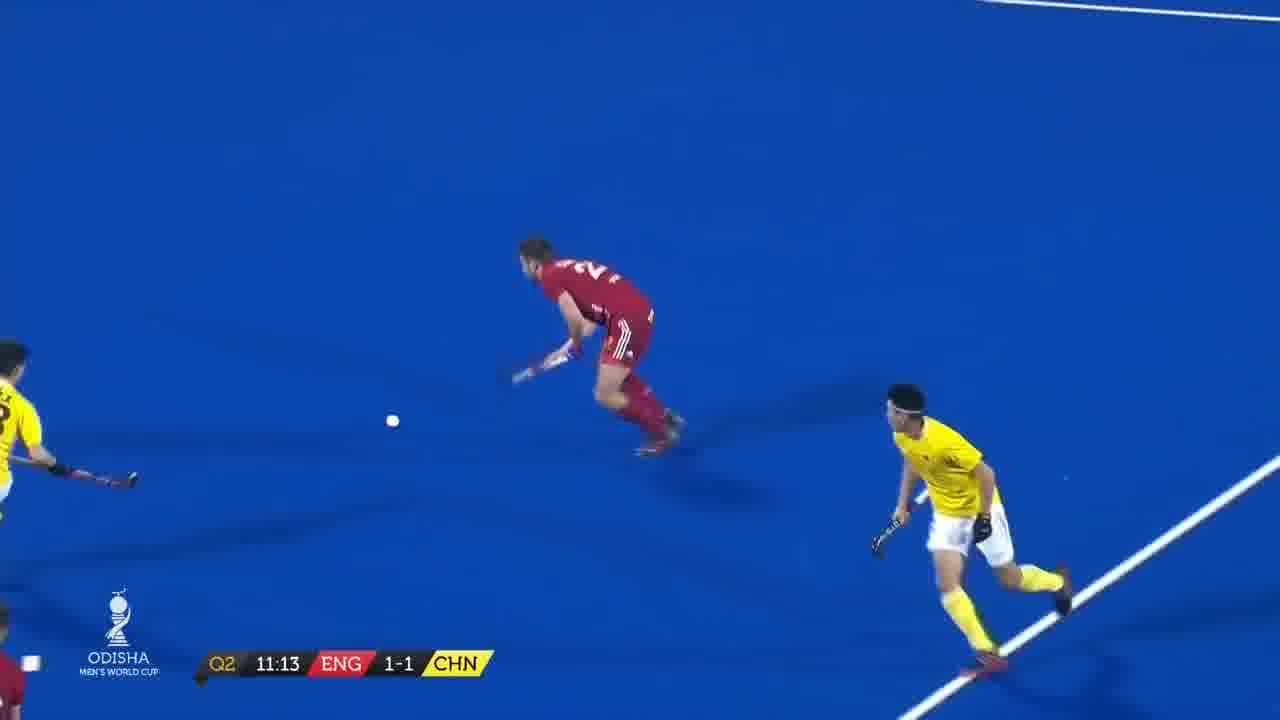ball: (386, 414, 404, 434)
